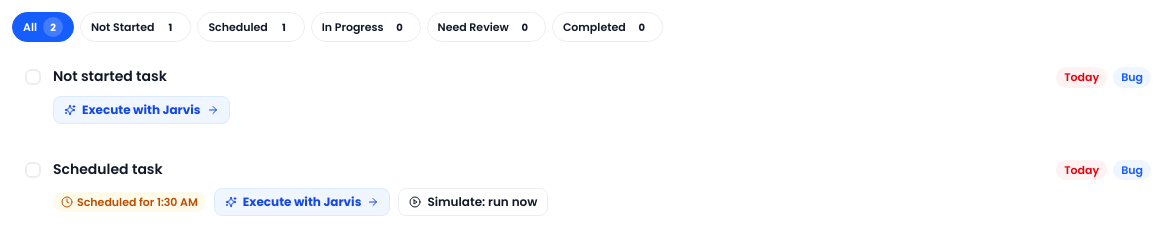
it: TasksWidget — filter chips › filters the visible task list when a status chip is clicked
The image size is (1164, 233).
Expected: the text "Not started task" is shown, left=53, top=66, right=167, bottom=86
Expected: the text "Scheduled task" is shown, left=53, top=158, right=163, bottom=178
Click the button "Scheduled 1" at (251, 27), box left=197, top=12, right=305, bottom=42
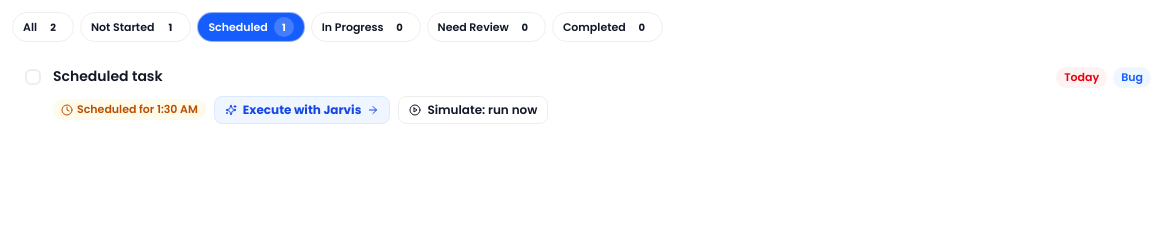
Expected: the text "Scheduled task" is shown, left=53, top=66, right=163, bottom=86
Expected: the text "Not started task" is gone
